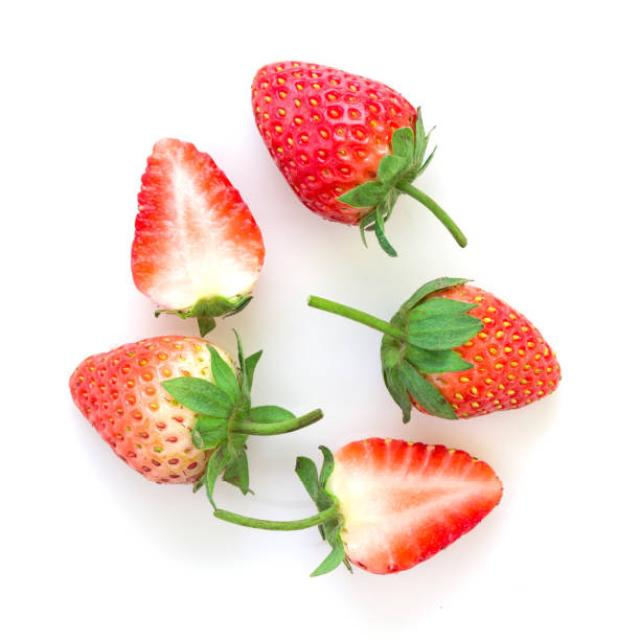Healthy Fruit: (249, 60, 416, 220), (69, 336, 238, 483), (327, 436, 505, 573), (129, 139, 268, 314), (397, 282, 564, 419)
